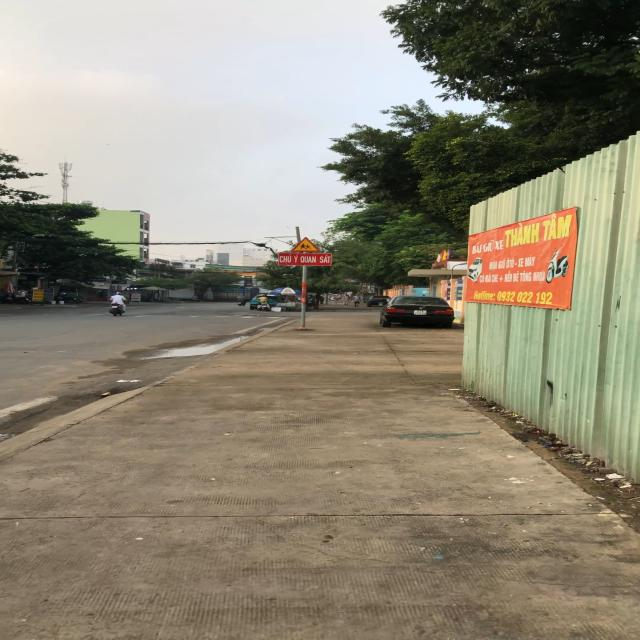Bien bao tre em: (290, 236, 322, 253)
